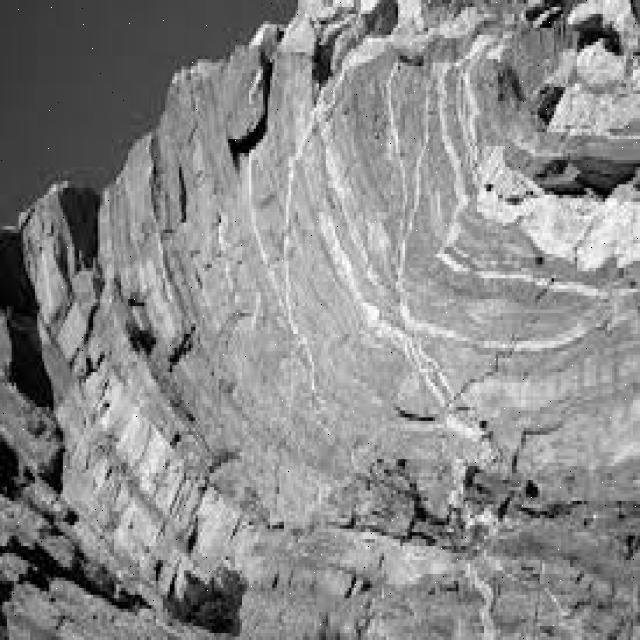Metamorphic: (2, 3, 633, 630)
